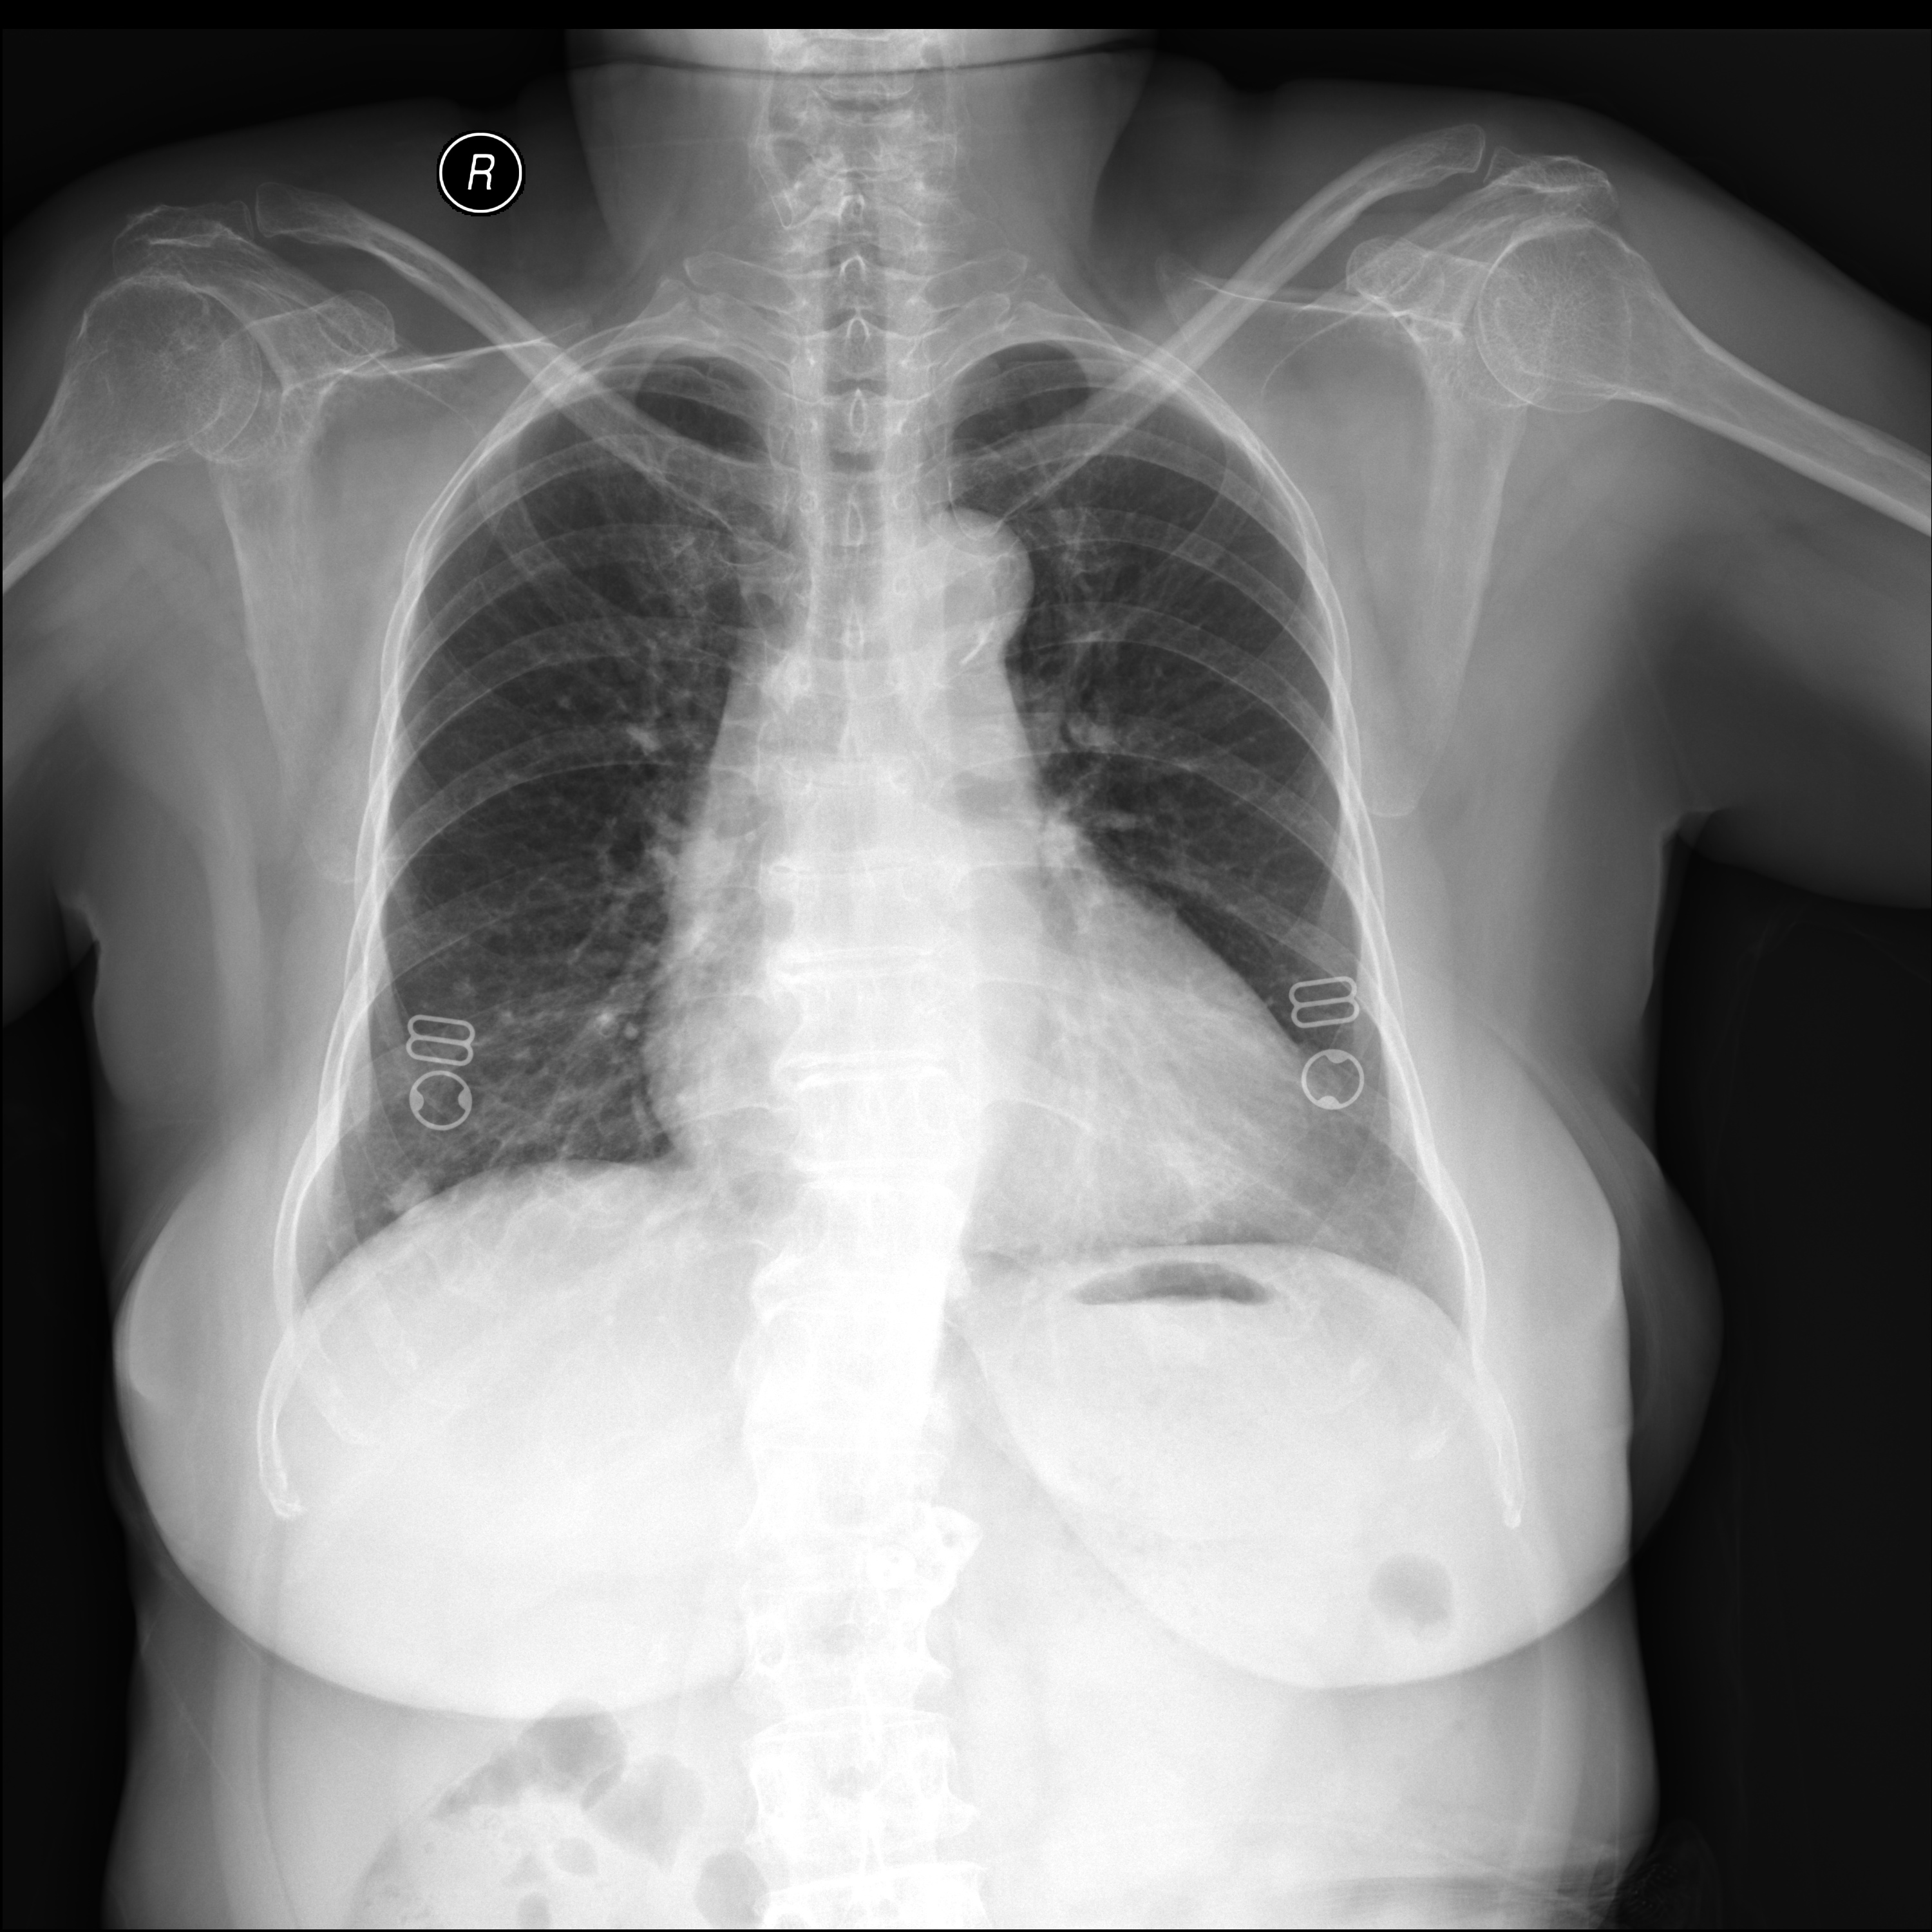nodule: (370, 1141, 449, 1269), (428, 939, 499, 1033)
